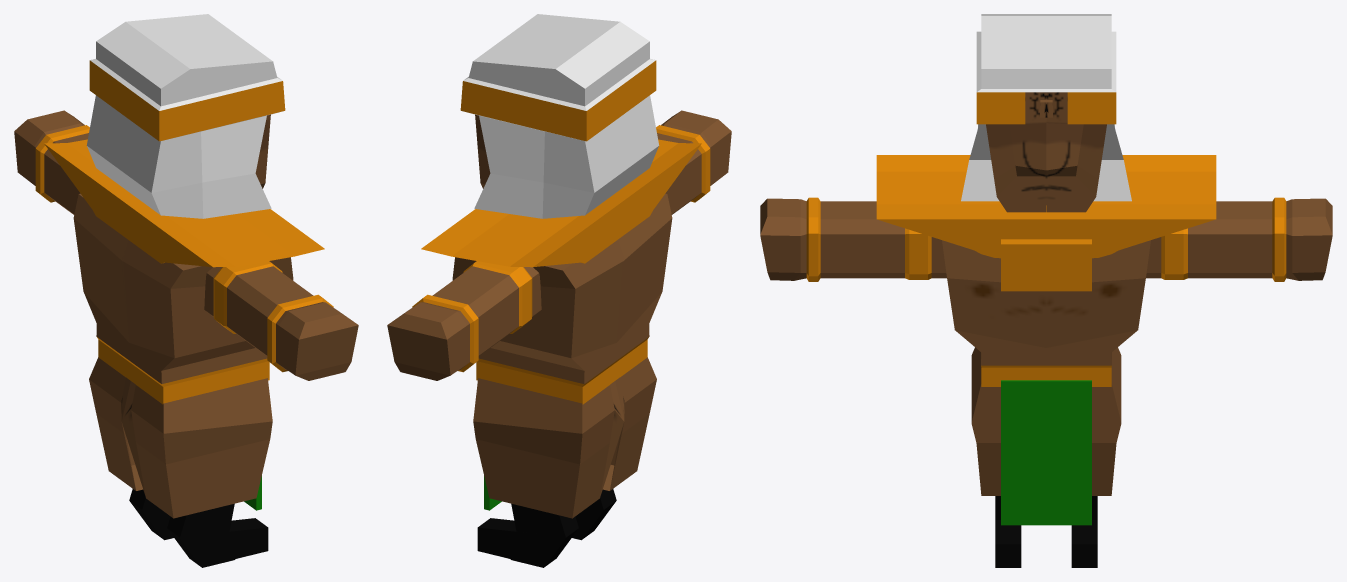
The model's file is faraon.fbx.
The picture shows the model from 3 angles, left to right: view 1: azimuth 30°, elevation 25°; view 2: azimuth 150°, elevation 25°; view 3: azimuth 270°, elevation 25°; orthographic projection.
Parts seen in each view (by area): view 1: Cube; view 2: Cube; view 3: Cube.
Boxes of the visible parts, <box> form: Cube: <box>14,14,358,567</box>; Cube: <box>387,14,731,567</box>; Cube: <box>760,14,1332,567</box>.
Bounding box in the file's own units: 243 × 866 × 879.
7 materials, 2 textured.
